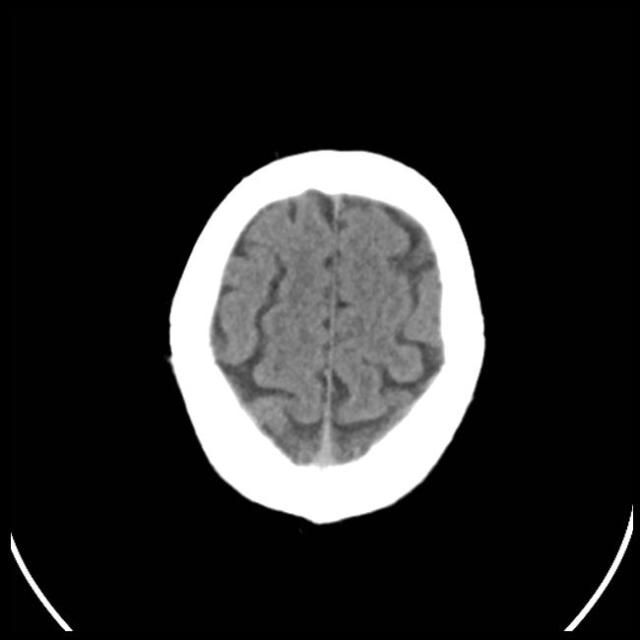lesion: (162, 142, 492, 529)
